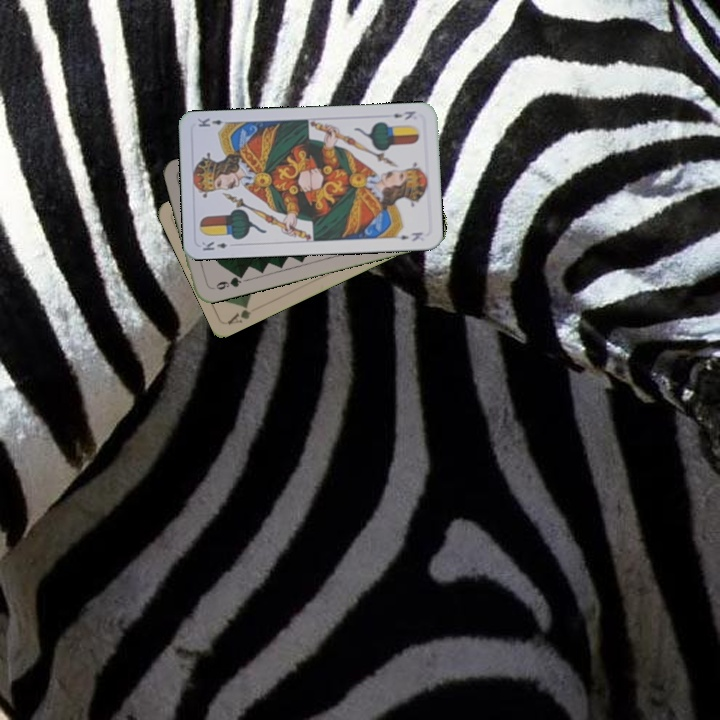EK: (198, 238, 230, 253), (389, 107, 418, 122)
G9: (208, 270, 246, 292)
GA: (224, 301, 254, 327)
